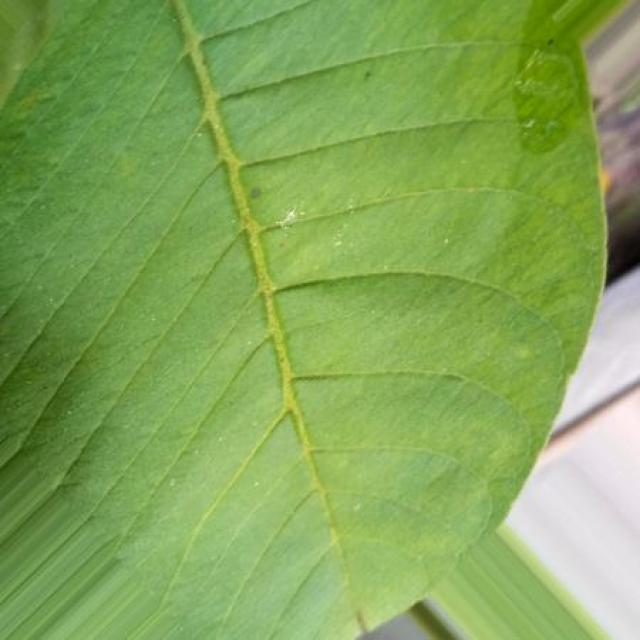Disease Free: (0, 1, 608, 639)
